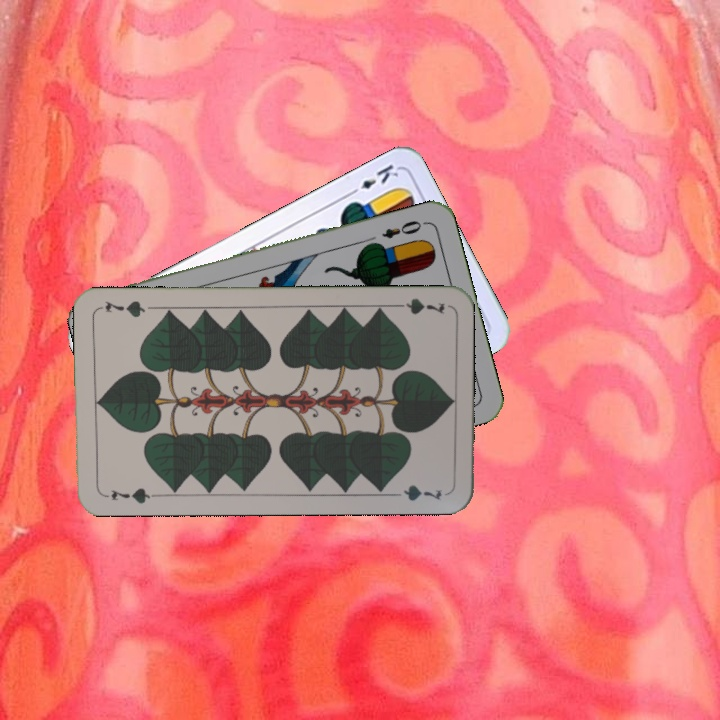EK: (344, 159, 402, 199)
EO: (378, 216, 429, 241)
G7: (388, 294, 447, 317), (99, 484, 158, 506)
